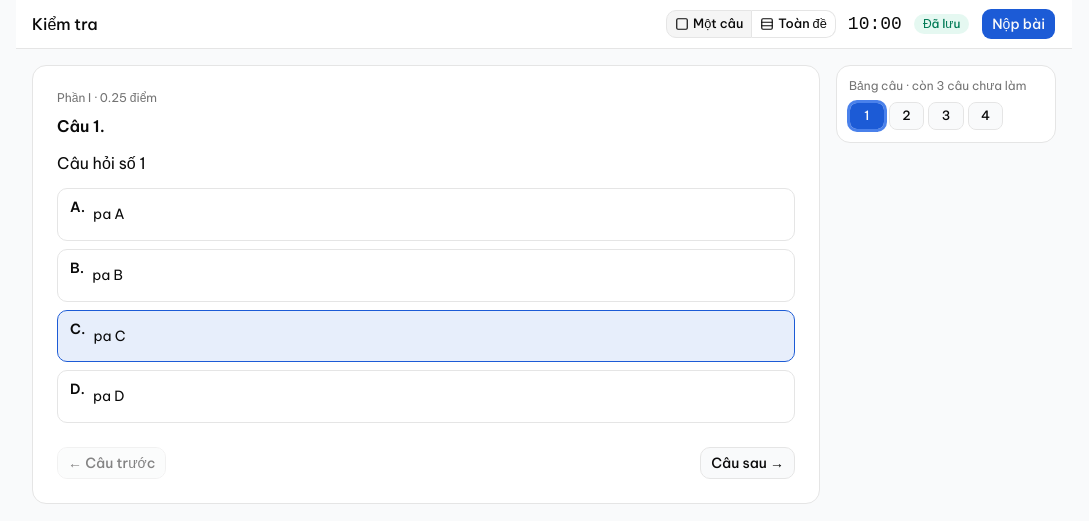
Test case: exam runner › keeps one width whatever question is on screen (AC-01)
This screenshot has width=1089, height=521.
What coordinates should you click on to do the following:
click the button named "Câu 4"
I would click on:
 (986, 116)
Its box is [968,102,1003,130].
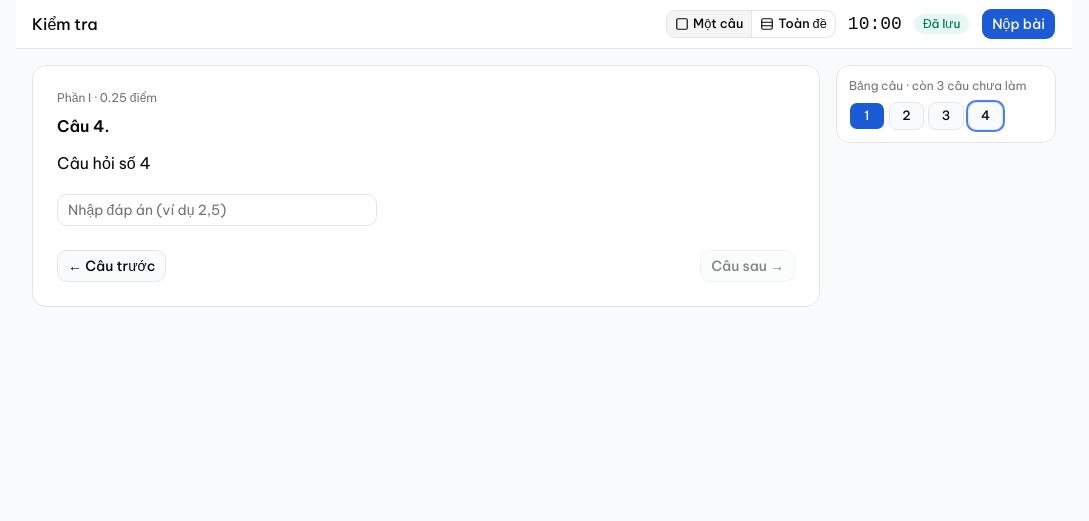
Expected: the element with test id "exam-question" shows "Câu hỏi số 4", [57,153,151,173]
